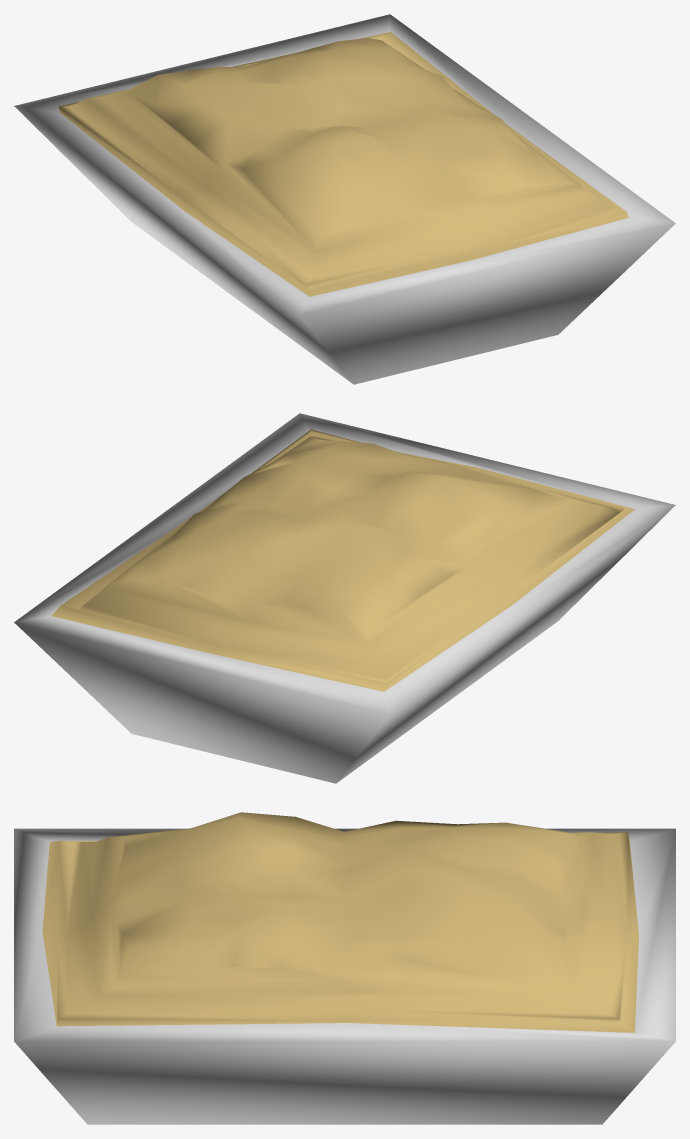
File: item_mash.fbx
The picture shows the model from 3 angles, top to bottom: view 1: azimuth 30°, elevation 25°; view 2: azimuth 150°, elevation 25°; view 3: azimuth 270°, elevation 25°; orthographic projection. The views are drawn at different scales.
Visible parts, largest first — view 1: item; view 2: item; view 3: item.
Part boxes in pixels (left/top/right/bottom): item: left=14, top=14, right=675, bottom=384; item: left=14, top=413, right=675, bottom=783; item: left=14, top=812, right=675, bottom=1124.
Size of the model in its own units: 368 by 170 by 484.
